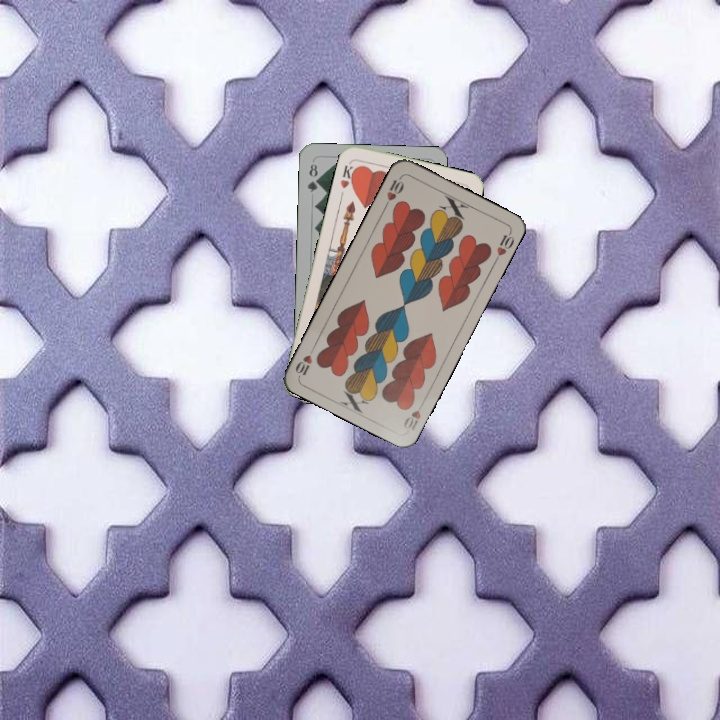G8: (303, 160, 321, 195)
H10: (400, 396, 428, 433), (381, 172, 406, 210)
HK: (336, 158, 360, 191)
